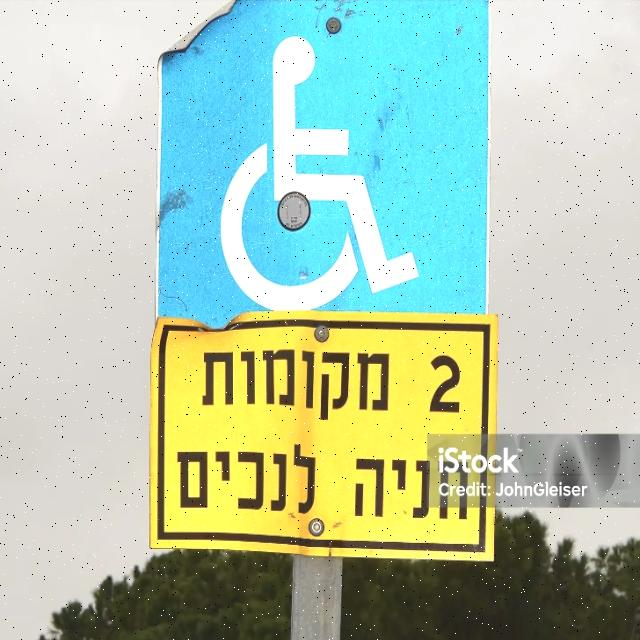symbol_of_access: (155, 0, 491, 320)
